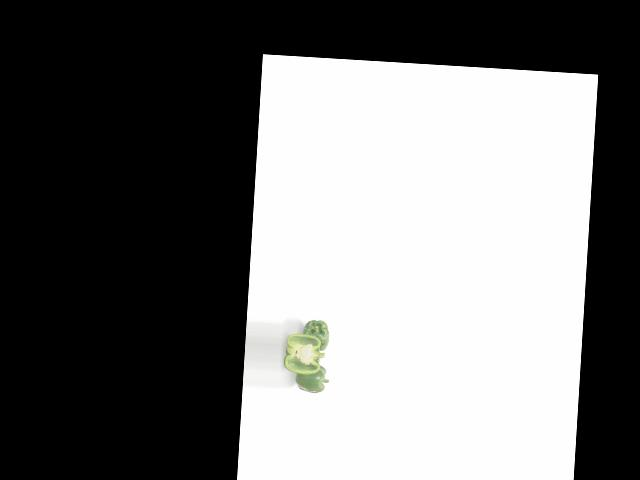bell_pepper: (298, 316, 332, 354)
